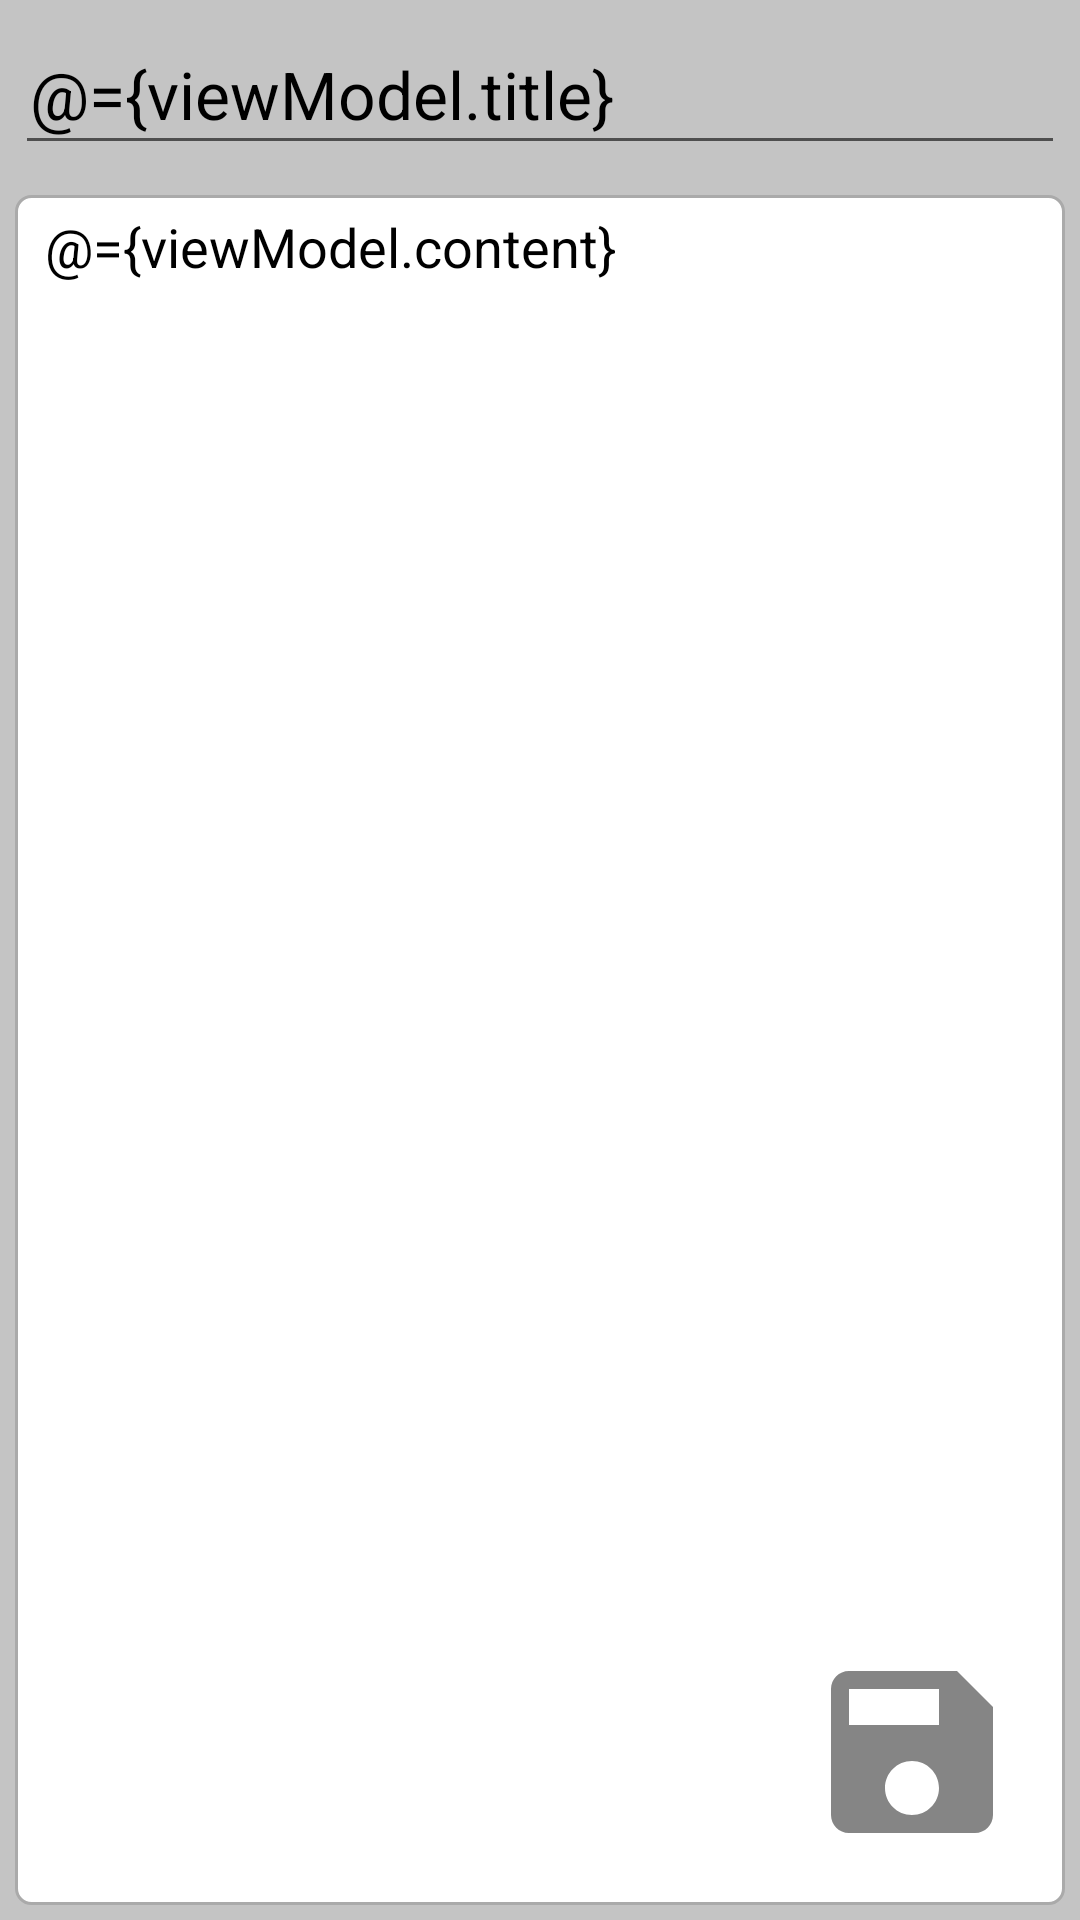

Screen size 1080w x 1920h. Icon name, then its box in pixels as {"left": x1, "top": y1, "right": x2, "bottom": y2}:
save: {"left": 831, "top": 1671, "right": 993, "bottom": 1833}
